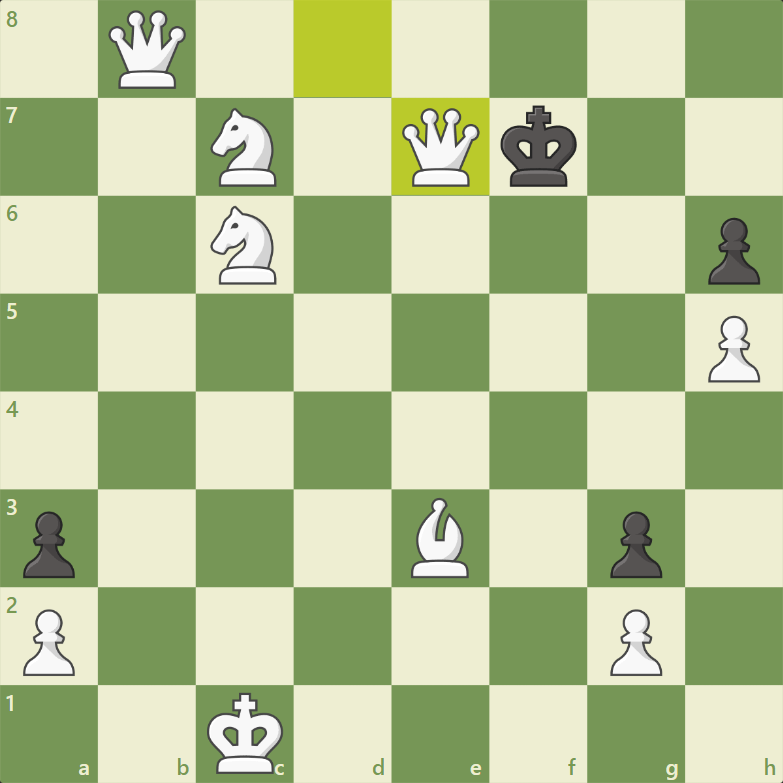B: (406, 495, 474, 583)
K: (205, 689, 287, 778)
N: (204, 203, 281, 288), (209, 105, 281, 189)
P: (605, 606, 665, 680), (19, 606, 78, 680), (707, 313, 764, 386)
Q: (397, 104, 483, 190), (107, 7, 187, 93)
k: (496, 103, 580, 190)
p: (705, 215, 764, 288), (607, 509, 665, 582), (21, 509, 77, 583)
